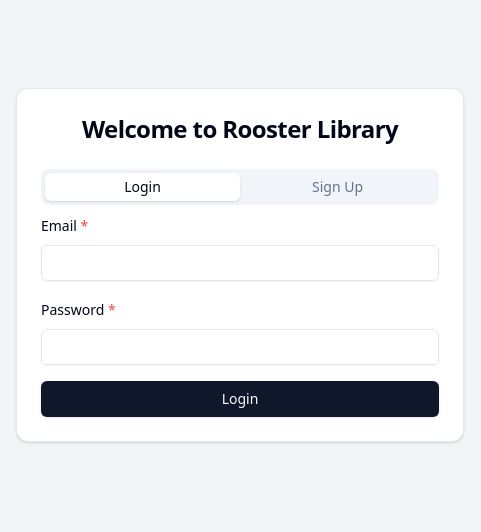
LoginPage › Signup Submission › displays error message on failed signup
Step 1. Click the tab "Sign Up" → (338, 187), box [240,173,435,201]
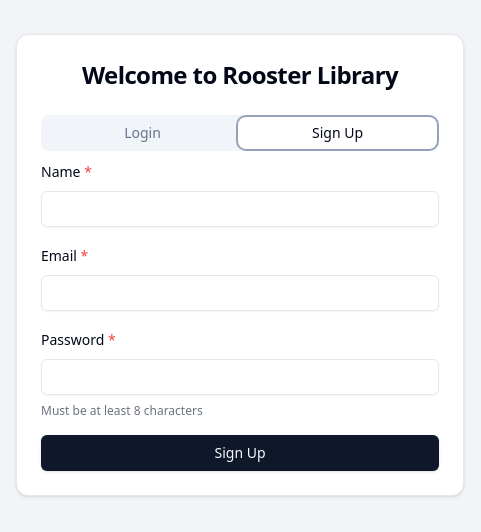
Step 2. Type "New User" into the field labelled "Name *" → (240, 209), box [41,191,439,227]
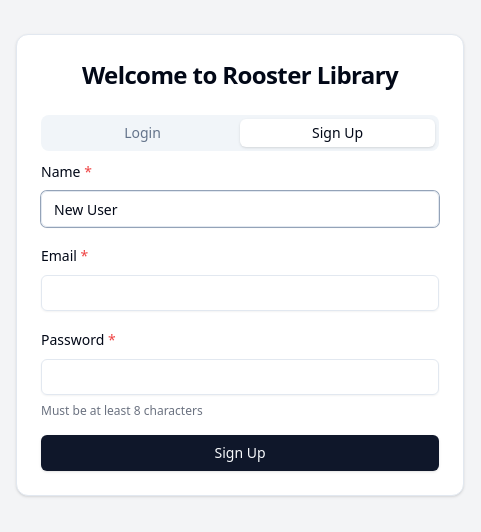
Step 3. Type "existing@example.com" into the field labelled "Email *" → (240, 293), box [41,275,439,311]
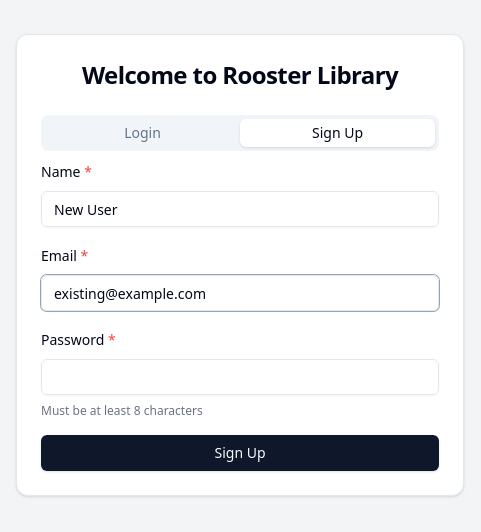
Step 4. Type "password123" into the password field labelled "Password *" → (240, 377), box [41,359,439,395]
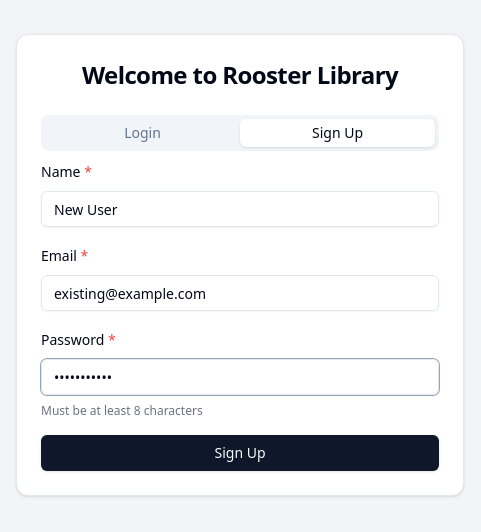
Step 5. Click the button "Sign Up" → (240, 453), box [41,435,439,471]
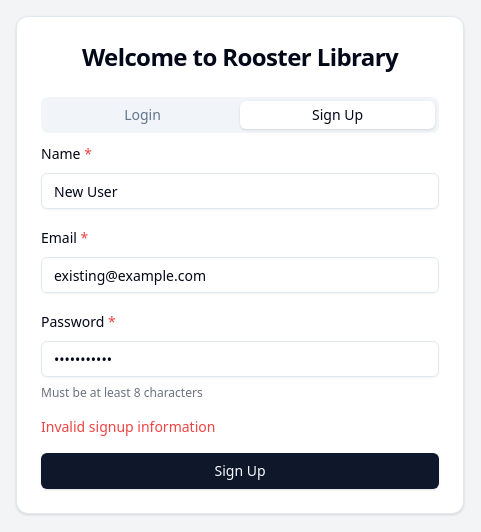
Now the text "Invalid signup information" is shown, box [41,417,215,436]
